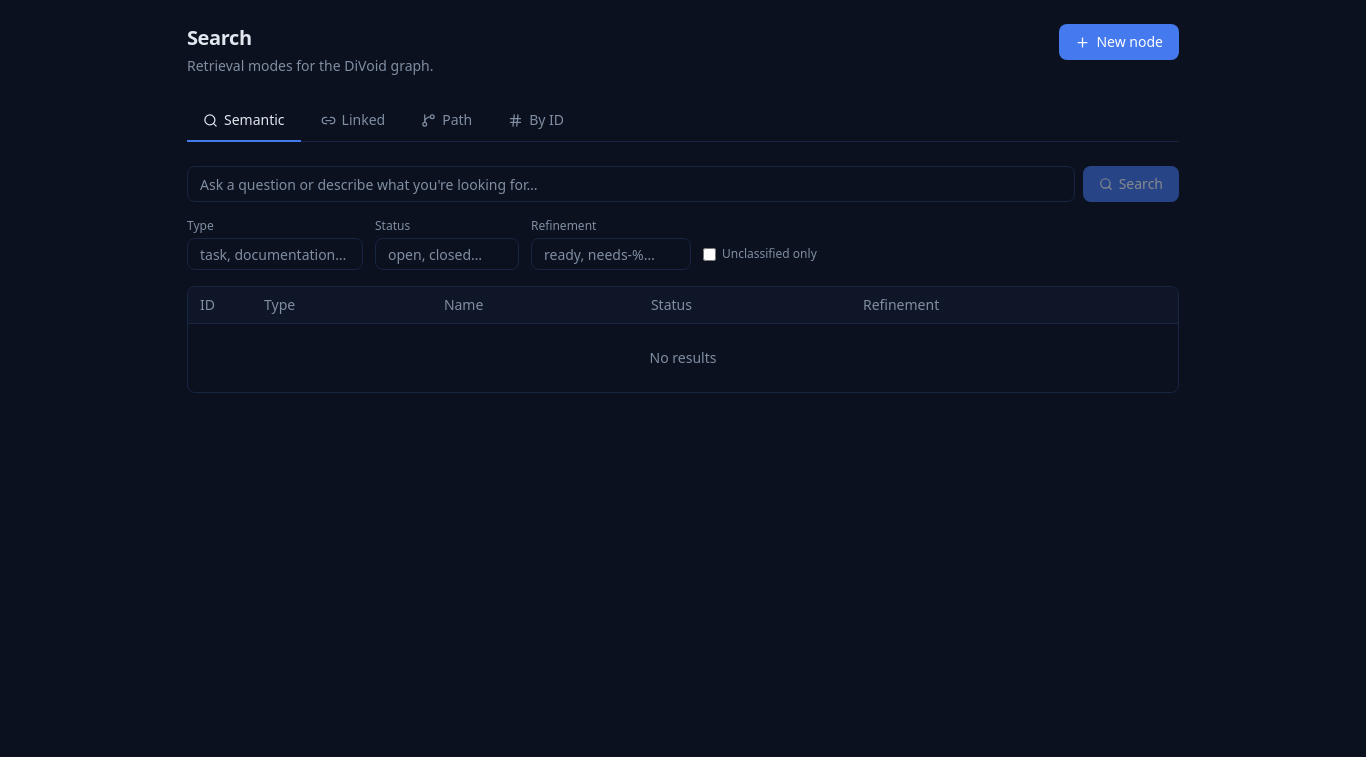
Test case: SearchPage → NodeDetailPage navigation — no render loop › navigates from search results to node detail without infinite render loop
// Semantic tab is active by default. Submit a query.
Type "auth notes" into the search field named "semantic search query" at (631,184), box [187,166,1075,202]
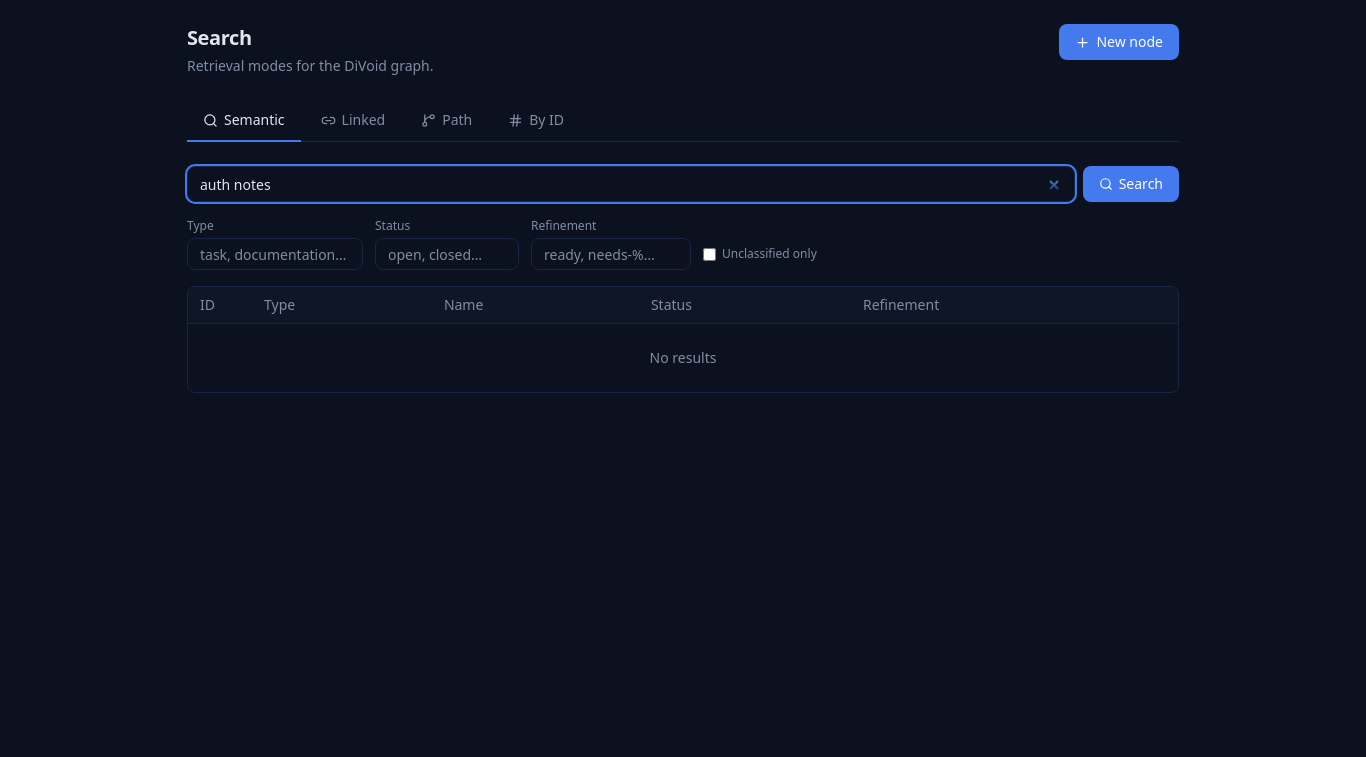
Click the button "Search" at (1131,184), box [1083,166,1179,202]
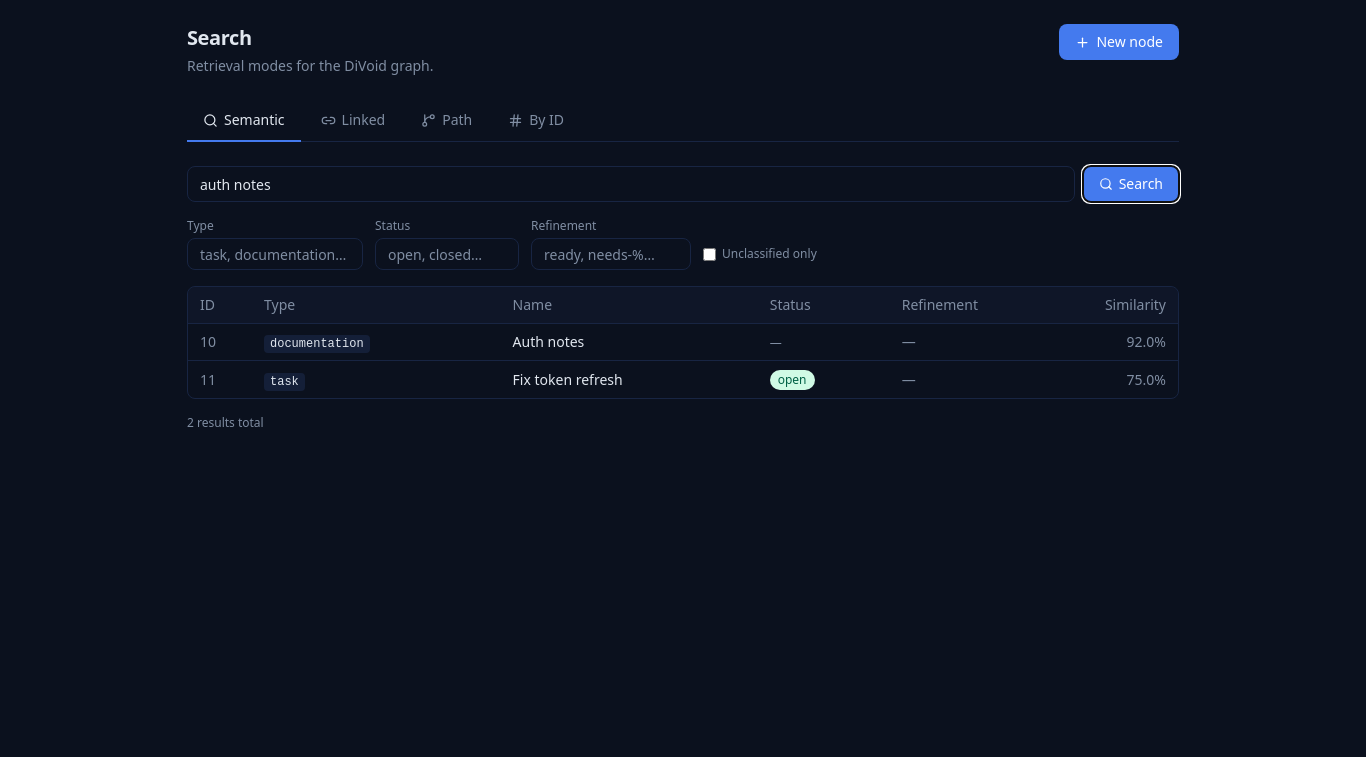
Result: the link "Auth notes" is shown
// Click the first result — navigates to /nodes/10.
Click the link "Auth notes" at (548,342), box [513,332,584,351]
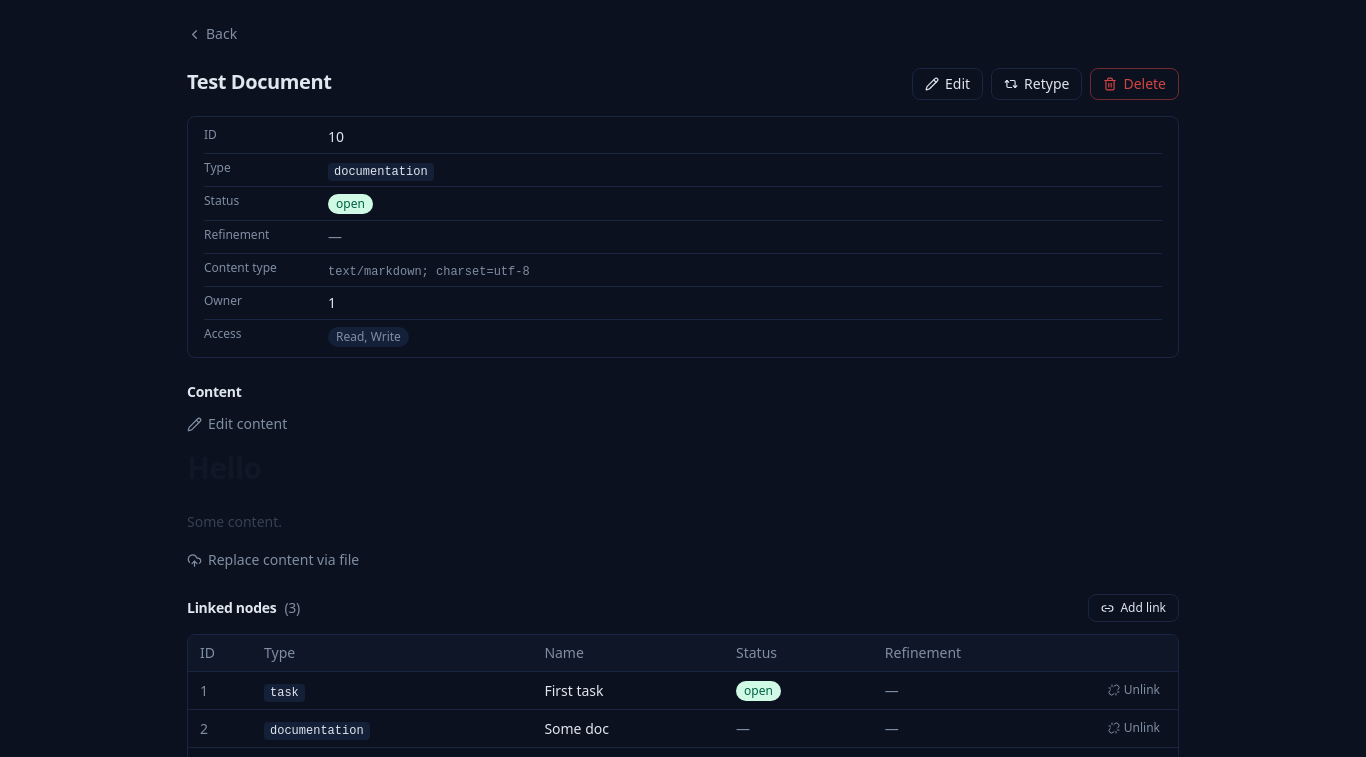
Result: the text "10" is shown at [328,127,344,146]
Result: the heading "Test Document" is shown at [187,68,332,96]
